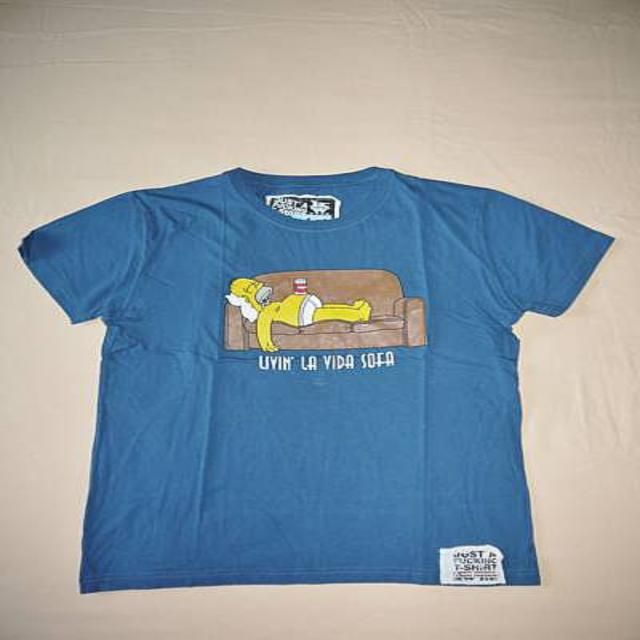T_SHIRT: (12, 161, 616, 595)
